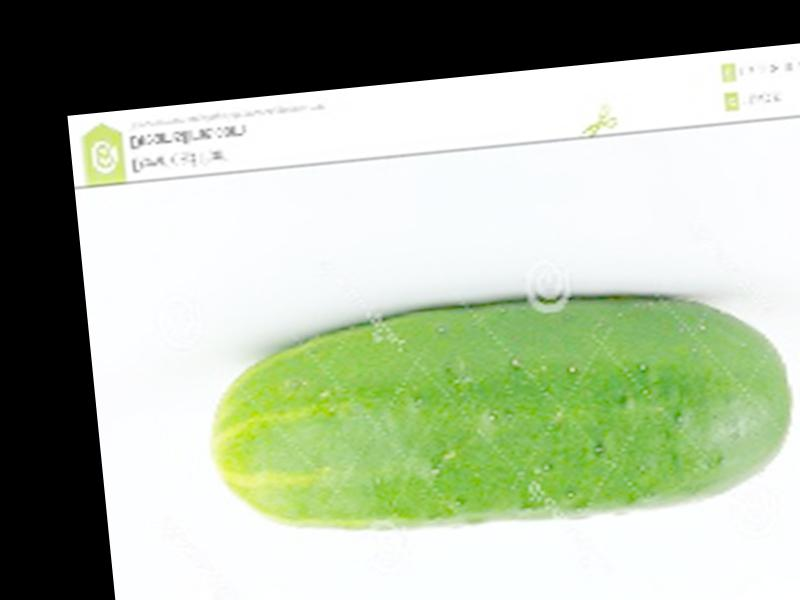Cucumber: (202, 273, 800, 548)
